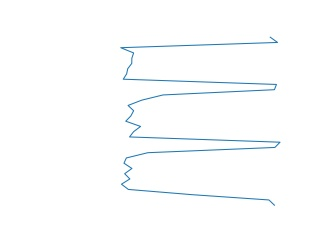majorRiverChannelBar: (118, 36, 283, 208)
